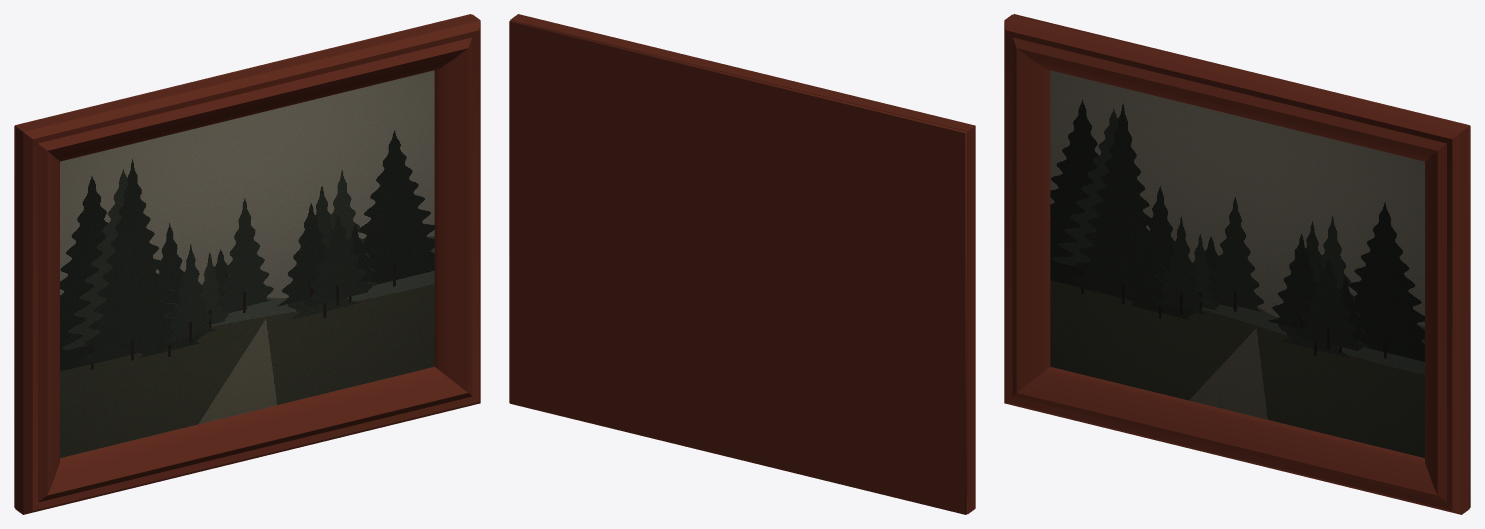
The model's file is Painting.glb.
3 renders of one model, left to right at view 1: azimuth 30°, elevation 25°; view 2: azimuth 150°, elevation 25°; view 3: azimuth 330°, elevation 25°, orthographic.
Visible parts, largest first — view 1: Painting_Canvas, Painting_Frame; view 2: Painting_Frame; view 3: Painting_Canvas, Painting_Frame.
Boxes of the visible parts, box(x1,y1,x2,y2) form: Painting_Canvas: box(60, 70, 434, 458); Painting_Frame: box(14, 14, 480, 514); Painting_Frame: box(509, 14, 975, 514); Painting_Canvas: box(1050, 70, 1424, 458); Painting_Frame: box(1004, 14, 1470, 514).
Bounding box in the file's own units: 1 × 0.8 × 0.058.
2 materials, 1 textured.
